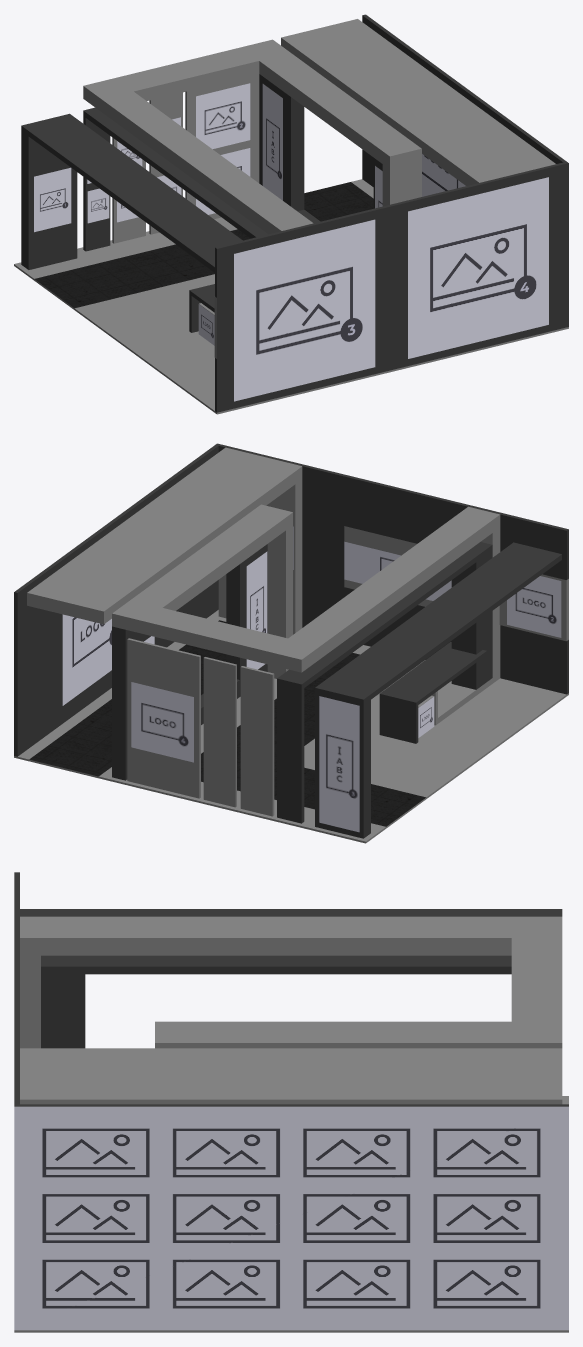
Rendered from stant9.gltf.
The picture shows the model from 3 angles, top to bottom: view 1: azimuth 30°, elevation 25°; view 2: azimuth 150°, elevation 25°; view 3: azimuth 270°, elevation 25°; orthographic projection. The views are drawn at different scales.
Visible parts, largest first — view 1: modrenk2, modrenk1, modgorsel3, modgorsel4, modplastik, modgorsel2, moddikyazi1, moddikgorsel1, modlogo1, moddikgorsel3, modgorsel1, modlogo3; view 2: modrenk2, modrenk1, modplastik, moddikyazi3, modlogo4, modlogo1, modlogo2, moddikyazi2, modyazi1, modlogo3; view 3: modgenisgorsel, modrenk2, modrenk1.
Boxes of the visible parts, x1,y1,x2,y2 form: modrenk2: (14, 19, 568, 414); modrenk1: (21, 14, 568, 412); modgorsel3: (234, 219, 375, 401); modgorsel4: (408, 177, 548, 358); modplastik: (35, 182, 373, 308); modgorsel2: (196, 83, 250, 149); moddikyazi1: (262, 84, 282, 200); moddikgorsel1: (34, 167, 71, 232); modlogo1: (422, 154, 465, 196); moddikgorsel3: (87, 188, 109, 223); modgorsel1: (196, 148, 250, 214); modlogo3: (198, 304, 214, 345); modrenk2: (14, 447, 568, 843); modrenk1: (14, 443, 568, 838); modplastik: (29, 620, 425, 826); moddikyazi3: (319, 696, 359, 832); modlogo4: (131, 682, 193, 762); modlogo1: (62, 614, 111, 705); modlogo2: (507, 576, 561, 637); moddikyazi2: (246, 551, 267, 669); modyazi1: (344, 541, 451, 600); modlogo3: (418, 696, 434, 737); modgenisgorsel: (14, 1106, 568, 1330); modrenk2: (14, 916, 568, 1332); modrenk1: (14, 872, 568, 1106).
Bounding box in the file's own units: 1 × 0.45 × 1.
24 materials, 22 textured.
